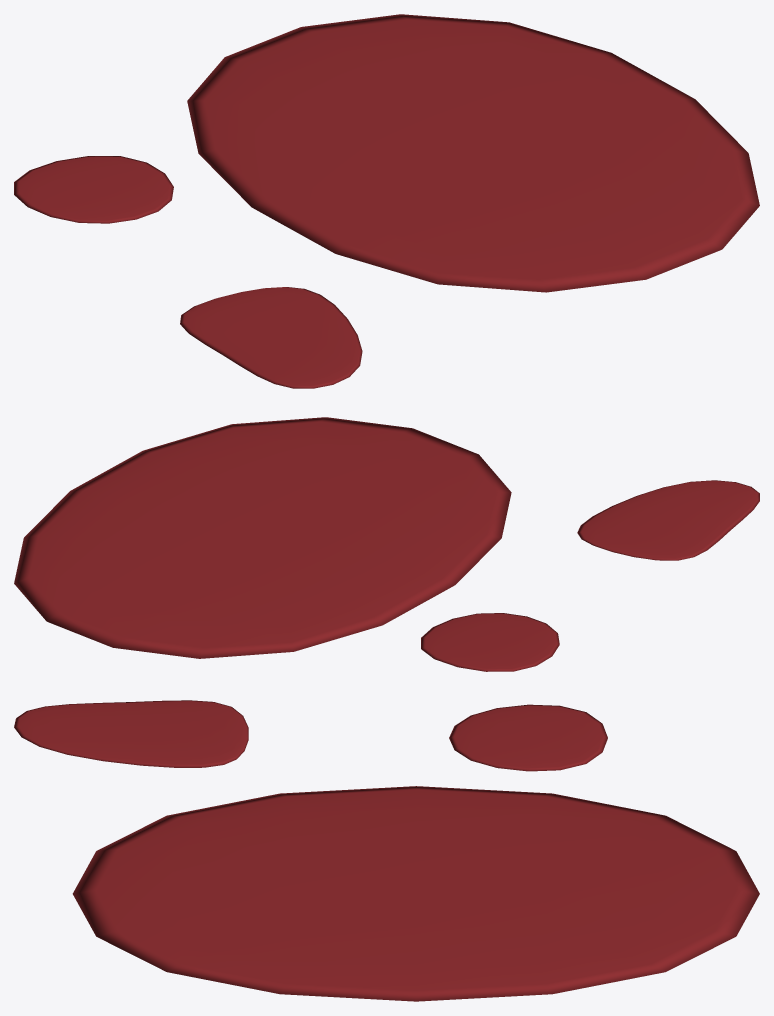
The model's file is Loi.fbx.
3 views of the same model, one above another, from view 1: azimuth 30°, elevation 25°; view 2: azimuth 150°, elevation 25°; view 3: azimuth 270°, elevation 25° (orthographic). The views are drawn at different scales.
Visible parts, largest first — view 1: Cube, Cube.001, Cube.002; view 2: Cube, Cube.001, Cube.002; view 3: Cube, Cube.001, Cube.002.
Part boxes in pixels (box(x1,y1,x2,y2)): Cube: box(187, 14, 759, 292); Cube.001: box(180, 287, 362, 388); Cube.002: box(14, 156, 173, 223); Cube: box(14, 417, 511, 658); Cube.001: box(577, 480, 759, 560); Cube.002: box(421, 613, 559, 671); Cube: box(72, 786, 759, 1001); Cube.001: box(14, 700, 248, 767); Cube.002: box(449, 704, 607, 771).
Bounding box in the file's own units: 60.18 × 1.75 × 62.98.
